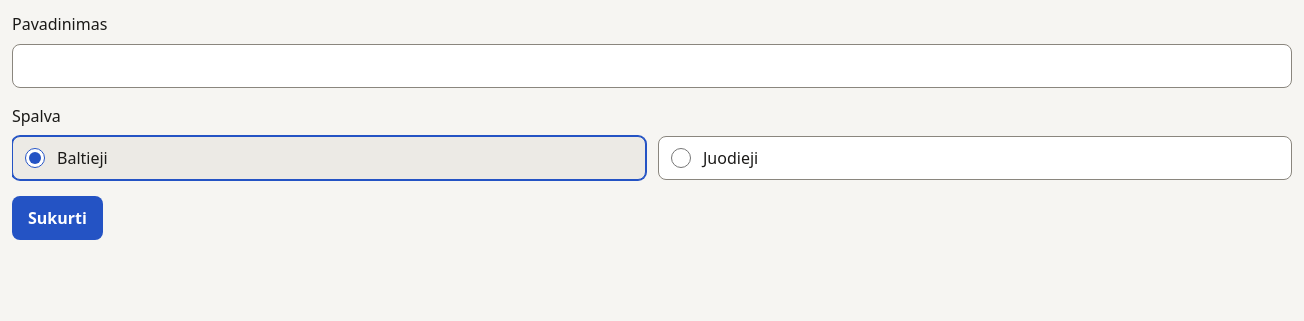
Scenario: CreateForm › does not mark the name for a side refusal
Click the button "Sukurti". click: (57,218)
box: 12,196 -> 103,240
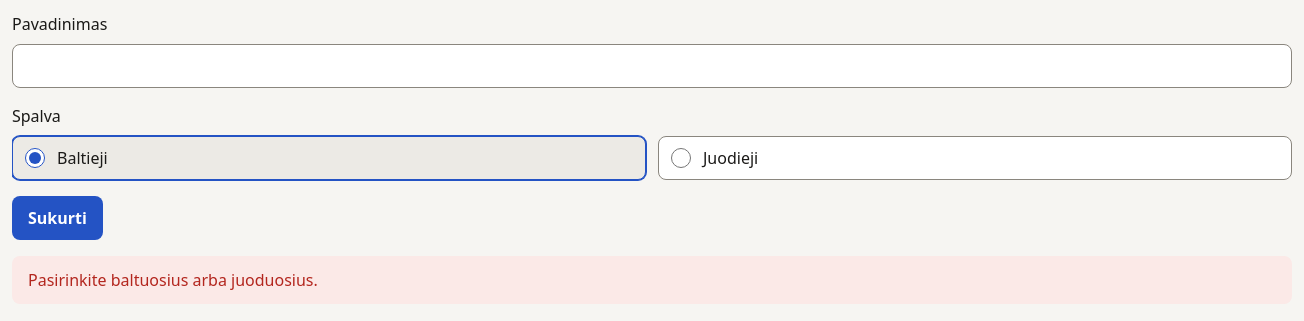
expect the text "Pasirinkite baltuosius arba juoduosius." is shown: met, box 12,256 -> 1292,304
